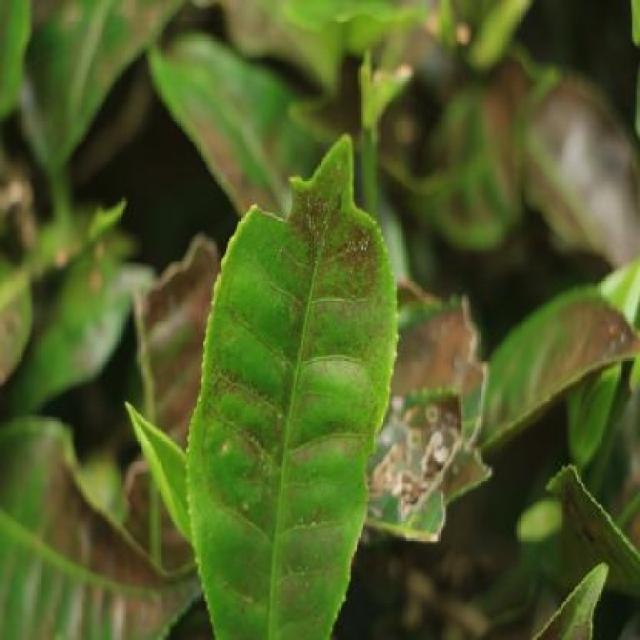Red Spider infested tea leaf: (166, 140, 422, 640)
